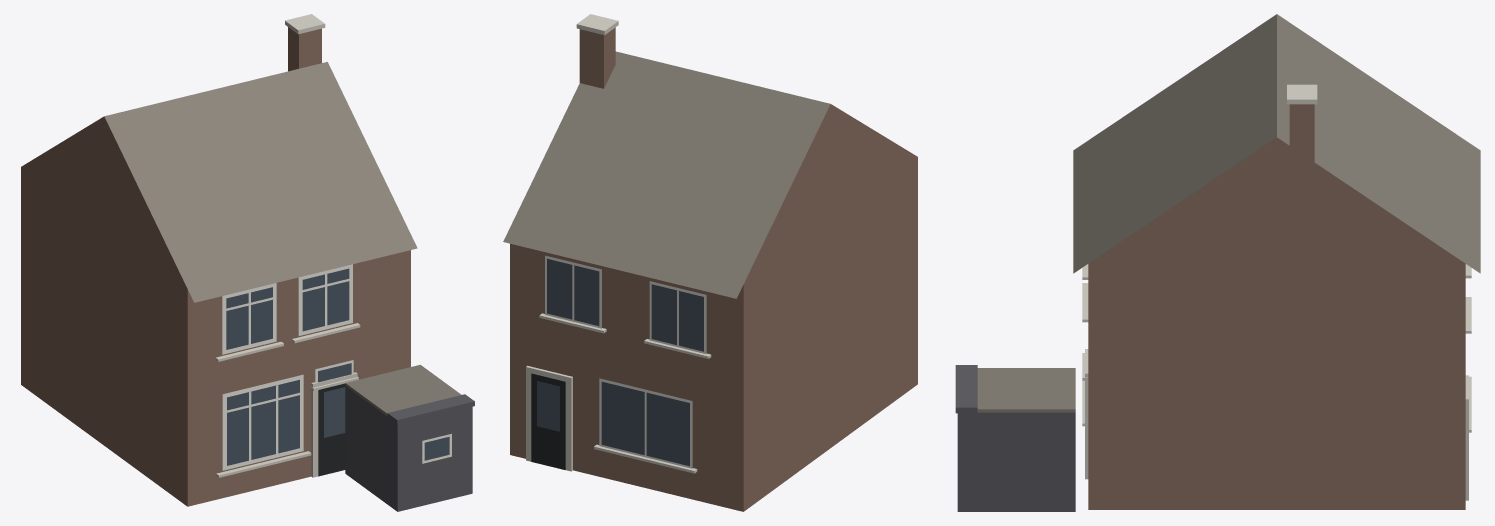
Rendered from fe-db-row__black-door__2__gable__long__solid.glb.
3 renders of one model, left to right at view 1: azimuth 30°, elevation 25°; view 2: azimuth 150°, elevation 25°; view 3: azimuth 270°, elevation 25°, orthographic. The views are drawn at different scales.
Parts seen in each view (by area): view 1: fe-db-row__black-door__2__gable__long__solid; view 2: fe-db-row__black-door__2__gable__long__solid; view 3: fe-db-row__black-door__2__gable__long__solid.
Part boxes in pixels (x1,y1,x2,y2): fe-db-row__black-door__2__gable__long__solid: (21, 14, 474, 511); fe-db-row__black-door__2__gable__long__solid: (503, 14, 917, 511); fe-db-row__black-door__2__gable__long__solid: (955, 14, 1480, 511).
Size of the model in its own units: 5.93 by 9.02 by 10.49.
